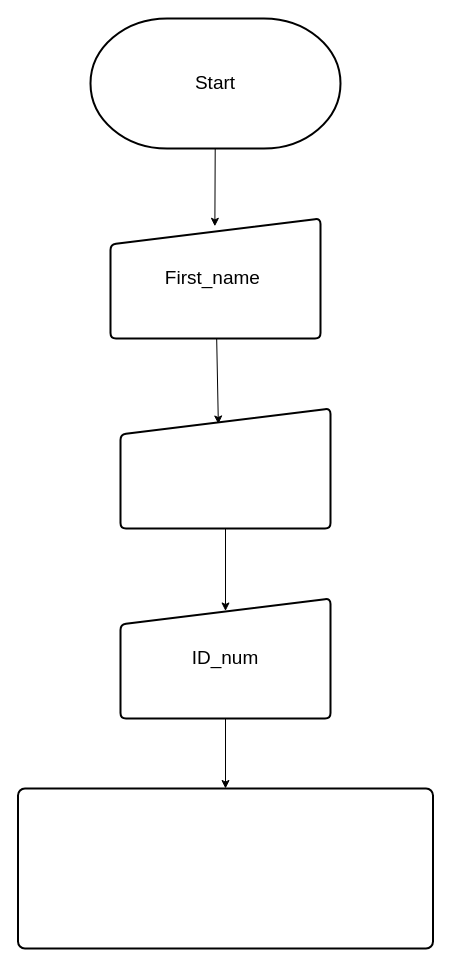
The diagram is 451 pixels wide and 966 high, and some of its shapes have lost their labels. The box of each missing label's shape, as (x1, y1, x2, y2) in pixels:
(First_name)[:3]+(Last_name)[:3]+(ID_num)[-3:]: (16, 787, 434, 949)
Last_name: (119, 407, 331, 529)
